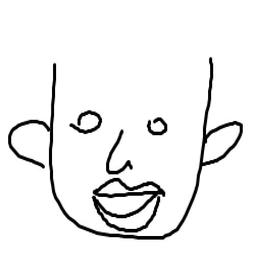ear: (198, 117, 246, 176), (7, 111, 48, 169)
empty_eye: (69, 102, 103, 137), (140, 112, 170, 138)
nose: (104, 126, 133, 176)
open_mouth: (87, 176, 167, 236)
